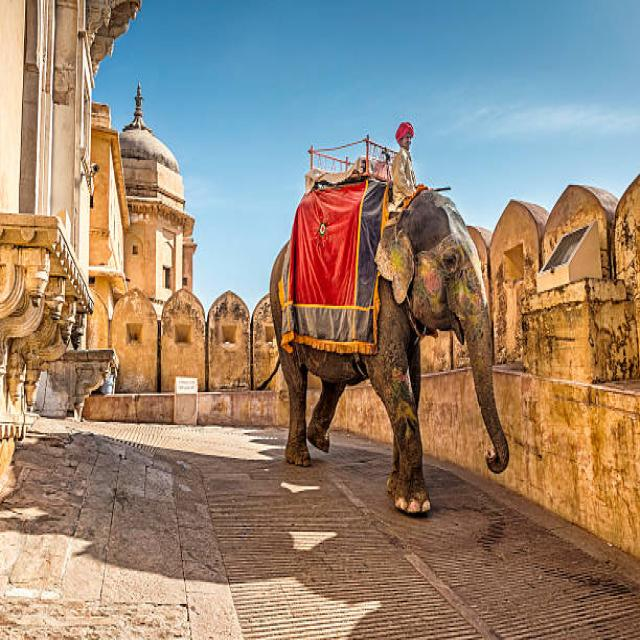Elephant: (261, 178, 528, 531)
